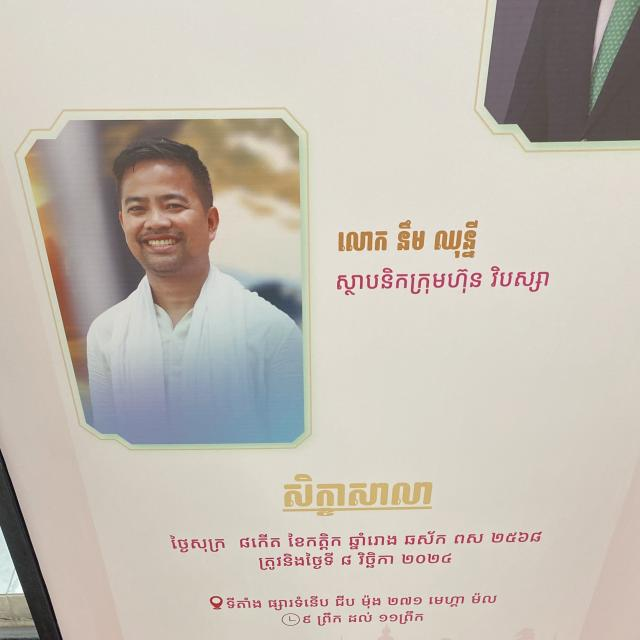1: (330, 265, 555, 304)
2: (330, 216, 483, 263)
3: (254, 549, 460, 573), (299, 609, 425, 627)
6: (167, 526, 545, 558), (224, 590, 499, 614)
Yolov11_80vkh: (281, 469, 438, 519)
